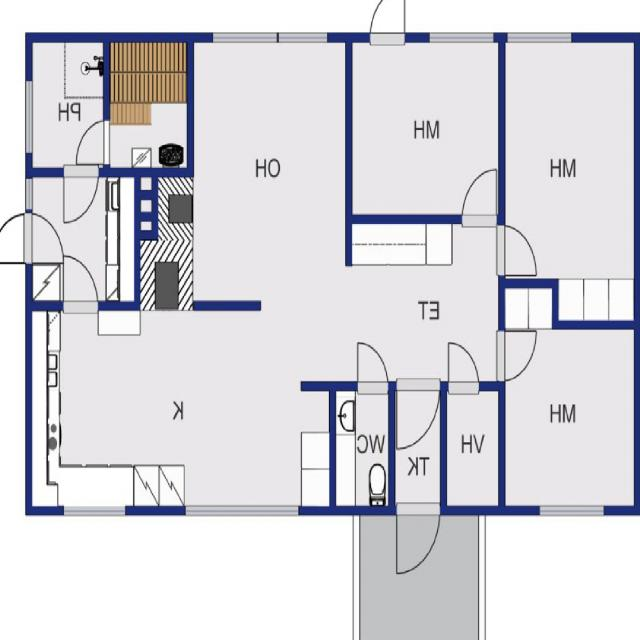door: (397, 506, 440, 578), (397, 382, 440, 454), (25, 212, 67, 263), (63, 250, 98, 310), (499, 330, 540, 381), (499, 225, 540, 275), (462, 164, 496, 224), (64, 167, 98, 226), (0, 211, 33, 262), (74, 120, 110, 164), (358, 338, 388, 390), (450, 338, 480, 390), (371, 0, 405, 42)
